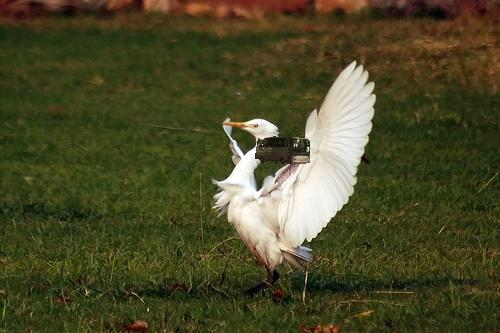tampered: (256, 137, 310, 164)
